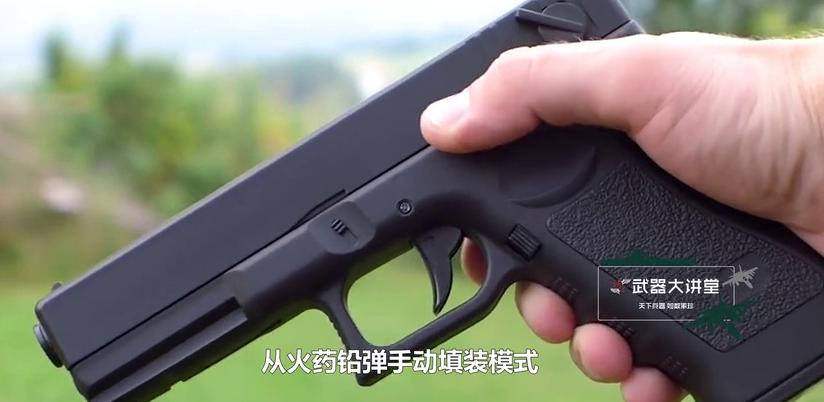gun: (1, 0, 824, 402)
